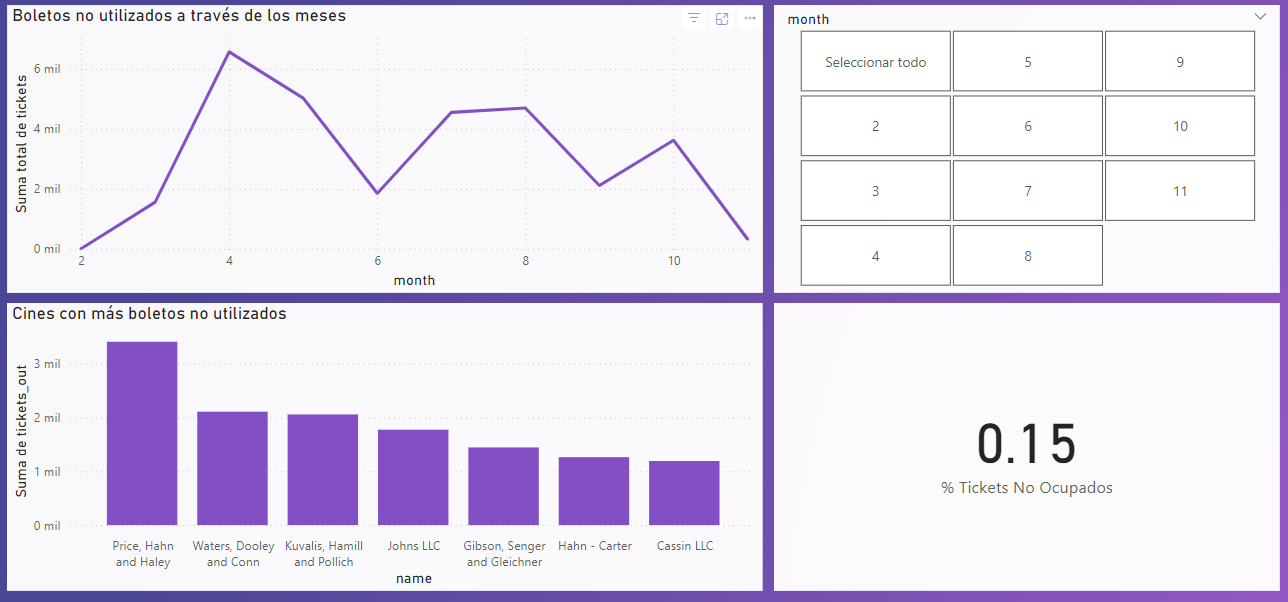

The dashboard page shown, as its layout file describes it:
{"tool":"powerbi","page":{"name":"Análisis de boletos no usados","canvas":[1280,720],"ordinal":4},"visuals":[{"type":"lineChart","title":"Boletos no utilizados a través de los meses","fields":{"Category":["tickets.month"],"Y":["Sum(tickets.tickets_out)"]},"box":[15.6,9.7,735.3,280.1],"z":0},{"type":"columnChart","title":"Cines con más boletos no utilizados","fields":{"Category":["cinemas.name"],"Y":["Sum(tickets.tickets_out)"]},"box":[16,300,735,280],"z":1},{"type":"card","fields":{"Values":["tickets.% Tickets No Ocupados"]},"box":[761.6,299.6,492.2,280.1],"z":2},{"type":"slicer","fields":{"Values":["tickets.month"]},"box":[761.6,9.7,492.2,280.1],"z":3}]}

Visuals, with their boxes on the page's 1280x720 design canvas (x1, y1, x2, y2). These are canvas units, not pixel positions in the 1288x602 screenshot, which may show the page scaled, cropped or inside an application window:
"Boletos no utilizados a través de los meses" lineChart: 16 10 751 290
"Cines con más boletos no utilizados" columnChart: 16 300 751 580
card - tickets.% Tickets No Ocupados: 762 300 1254 580
slicer - tickets.month: 762 10 1254 290
